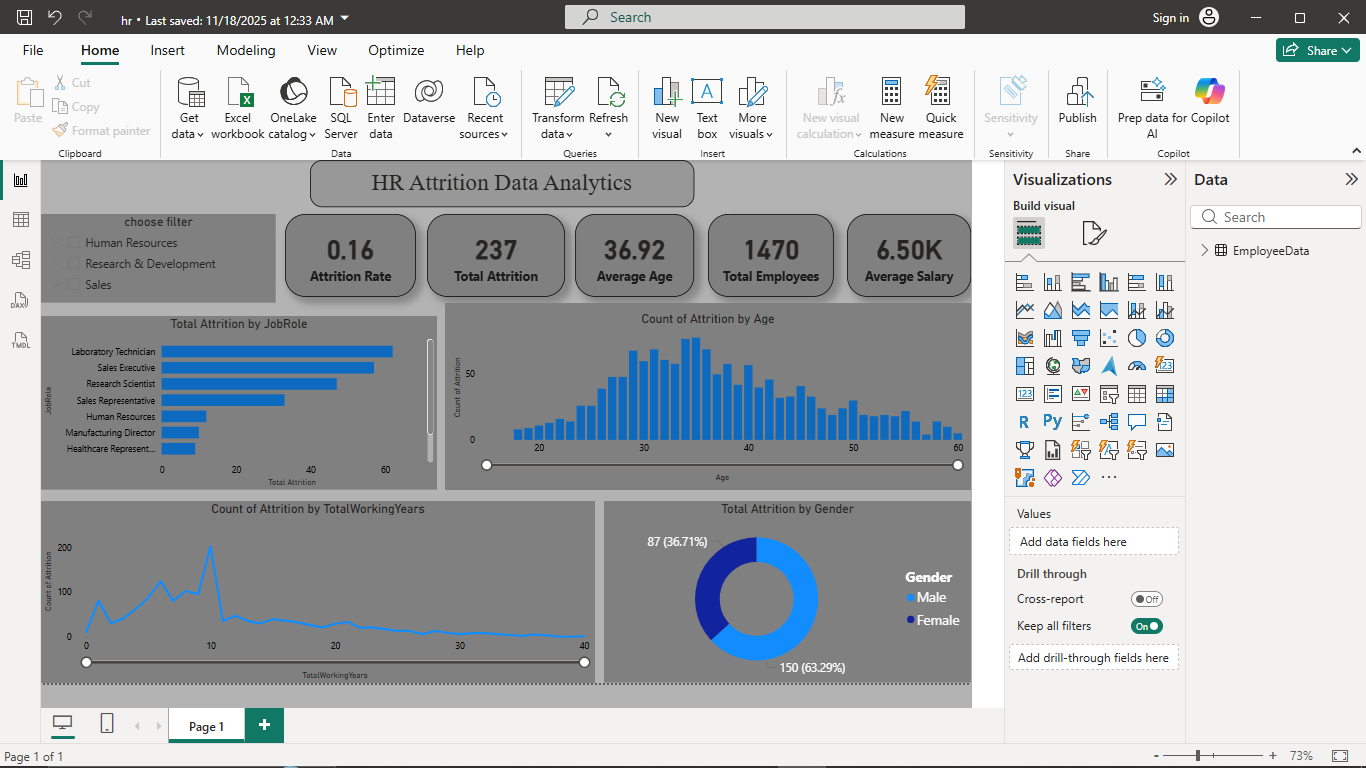

Layout of this report page (visuals, bound fields, positions):
{"tool":"powerbi","page":{"name":"Page 1","canvas":[1280,720],"ordinal":0},"visuals":[{"type":"card","fields":{"Values":["EmployeeData.Attrition Rate"]},"box":[335.8,74.3,180.3,114.2],"z":0},{"type":"card","fields":{"Values":["EmployeeData.Average Age"]},"box":[735,74.3,163.8,114.2],"z":1000},{"type":"card","fields":{"Values":["EmployeeData.Average Salary"]},"box":[1109.3,74.3,170.7,114.2],"z":2000},{"type":"card","fields":{"Values":["EmployeeData.Total Attrition"]},"box":[531.3,74.3,189.9,114.2],"z":3000},{"type":"card","fields":{"Values":["EmployeeData.Total Employees"]},"box":[918,74.3,173.4,114.2],"z":4000},{"type":"barChart","fields":{"Category":["EmployeeData.JobRole"],"Y":["EmployeeData.Total Attrition"]},"box":[0,214.7,545,239.5],"z":5000},{"type":"clusteredColumnChart","fields":{"Category":["EmployeeData.Age"],"Y":["CountNonNull(EmployeeData.Attrition)"]},"box":[556,196.8,724,257.4],"z":6000},{"type":"donutChart","fields":{"Category":["EmployeeData.Gender"],"Y":["EmployeeData.Total Attrition"]},"box":[774.9,469.3,505.1,250.5],"z":7000},{"type":"lineChart","fields":{"Y":["CountNonNull(EmployeeData.Attrition)"],"Category":["EmployeeData.TotalWorkingYears"]},"box":[0,469.3,762.5,250.5],"z":8000},{"type":"slicer","title":"choose filter","fields":{"Values":["EmployeeData.Department","EmployeeData.Gender","EmployeeData.JobRole"]},"box":[0,74.3,323.4,122.5],"z":9000},{"type":"textbox","box":[370.2,0,528.5,64.7],"z":9001}]}

Visuals, with their boxes on the page's 1280x720 design canvas (x1, y1, x2, y2). These are canvas units, not pixel positions in the 1366x768 screenshot, which may show the page scaled, cropped or inside an application window:
card - EmployeeData.Attrition Rate: l=336, t=74, r=516, b=188
card - EmployeeData.Average Age: l=735, t=74, r=899, b=188
card - EmployeeData.Average Salary: l=1109, t=74, r=1280, b=188
card - EmployeeData.Total Attrition: l=531, t=74, r=721, b=188
card - EmployeeData.Total Employees: l=918, t=74, r=1091, b=188
barChart - EmployeeData.JobRole x EmployeeData.Total Attrition: l=0, t=215, r=545, b=454
clusteredColumnChart - EmployeeData.Age x CountNonNull(EmployeeData.Attrition): l=556, t=197, r=1280, b=454
donutChart - EmployeeData.Gender x EmployeeData.Total Attrition: l=775, t=469, r=1280, b=720
lineChart - CountNonNull(EmployeeData.Attrition) x EmployeeData.TotalWorkingYears: l=0, t=469, r=762, b=720
"choose filter" slicer: l=0, t=74, r=323, b=197
textbox: l=370, t=0, r=899, b=65
